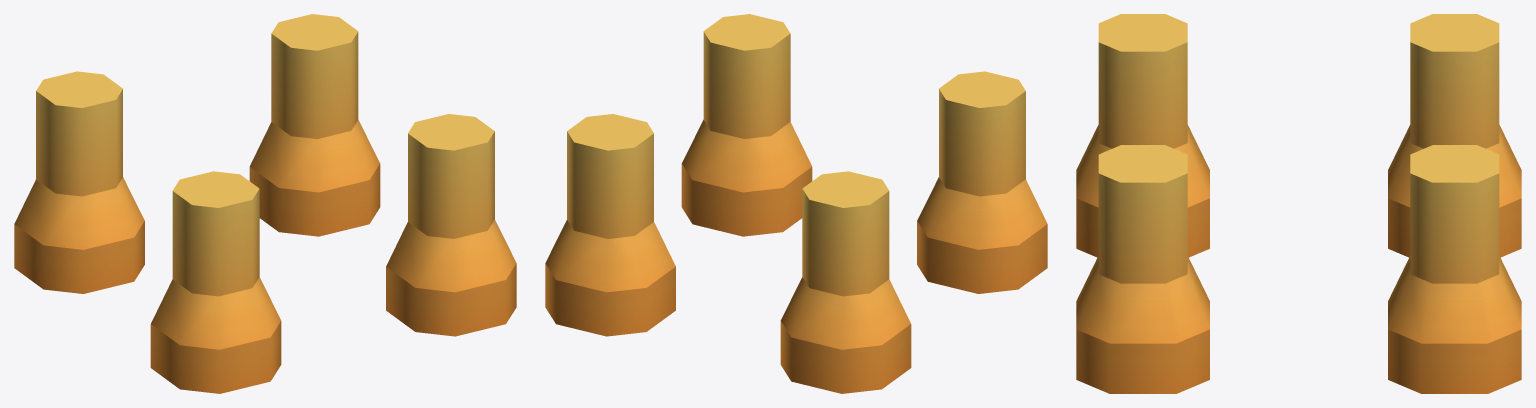
Rendered from support-color-four-bottom.glb.
3 views of the same model, side by side, from view 1: azimuth 30°, elevation 25°; view 2: azimuth 150°, elevation 25°; view 3: azimuth 270°, elevation 25° (orthographic). The views are drawn at different scales.
Visible parts, largest first — view 1: support-color-four-bottom; view 2: support-color-four-bottom; view 3: support-color-four-bottom.
Boxes of the visible parts, x1,y1,x2,y2 form: support-color-four-bottom: (14,14,516,393); support-color-four-bottom: (545,14,1047,393); support-color-four-bottom: (1076,14,1521,393).
Bounding box in the file's own units: 0.9968 × 0.5001 × 1.
1 material, 1 textured.
